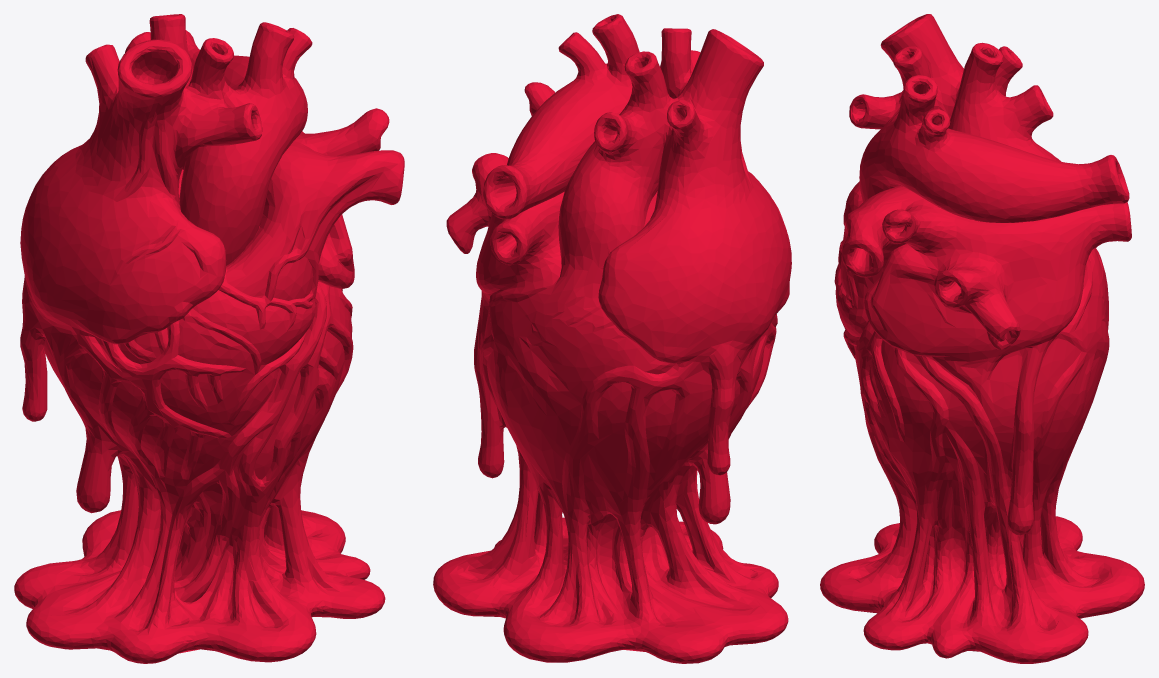
Rendered from renklikalp.glb.
3 views of the same model, side by side, from view 1: azimuth 30°, elevation 25°; view 2: azimuth 150°, elevation 25°; view 3: azimuth 270°, elevation 25° (orthographic). The views are drawn at different scales.
Visible parts, largest first — view 1: obj_1_high resolution; view 2: obj_1_high resolution; view 3: obj_1_high resolution.
Boxes of the visible parts, left/top/right/bottom form: obj_1_high resolution: left=14, top=14, right=404, bottom=663; obj_1_high resolution: left=433, top=14, right=791, bottom=663; obj_1_high resolution: left=820, top=14, right=1144, bottom=663.
Bounding box in the file's own units: 0.471 × 0.7933 × 0.4298.
